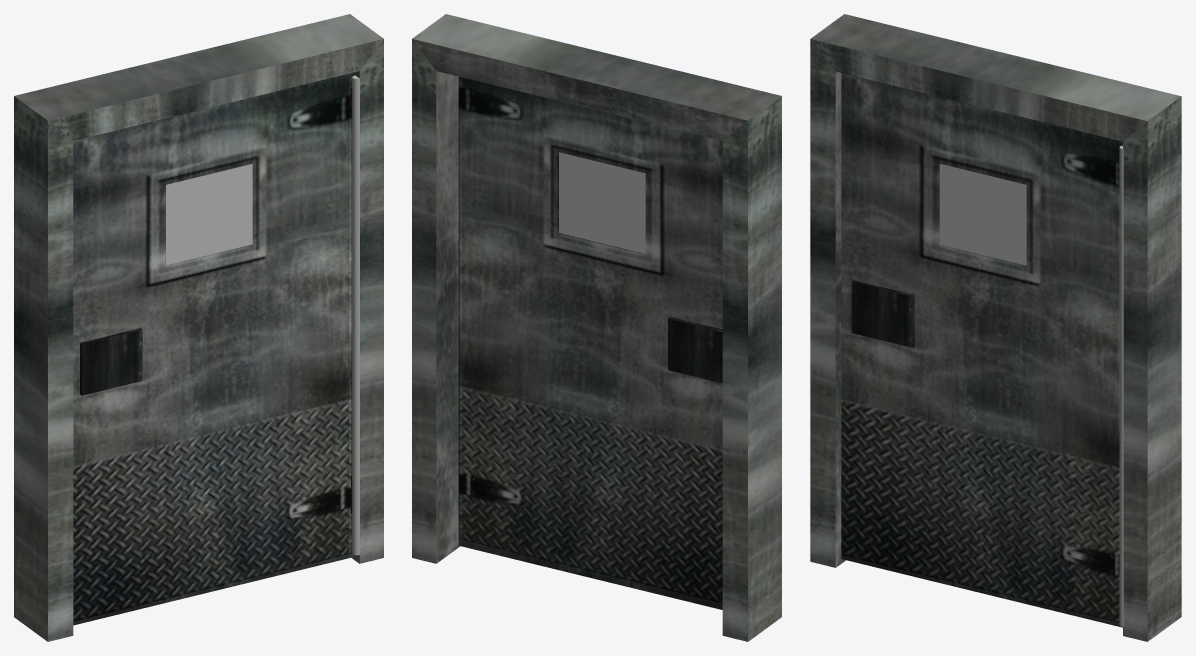
Rendered from door_freezerdoor.dae.
3 renders of one model, left to right at view 1: azimuth 30°, elevation 25°; view 2: azimuth 150°, elevation 25°; view 3: azimuth 330°, elevation 25°, orthographic.
Parts seen in each view (by area): view 1: door, frame, polySurface4, _joint_hinge_door_null_0_120_nocollide_joint1; view 2: door, frame, polySurface4; view 3: door, frame, polySurface4, _joint_hinge_door_null_0_120_nocollide_joint1.
Part boxes in pixels (<box>): door: <box>73,72,352,625</box>; frame: <box>14,14,383,641</box>; polySurface4: <box>166,164,252,265</box>; _joint_hinge_door_null_0_120_nocollide_joint1: <box>352,75,359,555</box>; door: <box>458,76,722,609</box>; frame: <box>412,14,781,641</box>; polySurface4: <box>559,152,645,253</box>; door: <box>841,73,1122,627</box>; frame: <box>810,14,1181,641</box>; polySurface4: <box>939,164,1026,265</box>; _joint_hinge_door_null_0_120_nocollide_joint1: <box>1119,145,1123,626</box>.
Size of what is drawn, in the model's own units: 1.5 by 2.22 by 0.2634.
